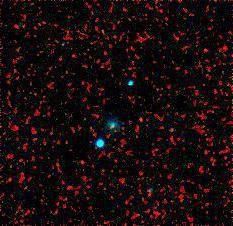star: (124, 102, 154, 132)
